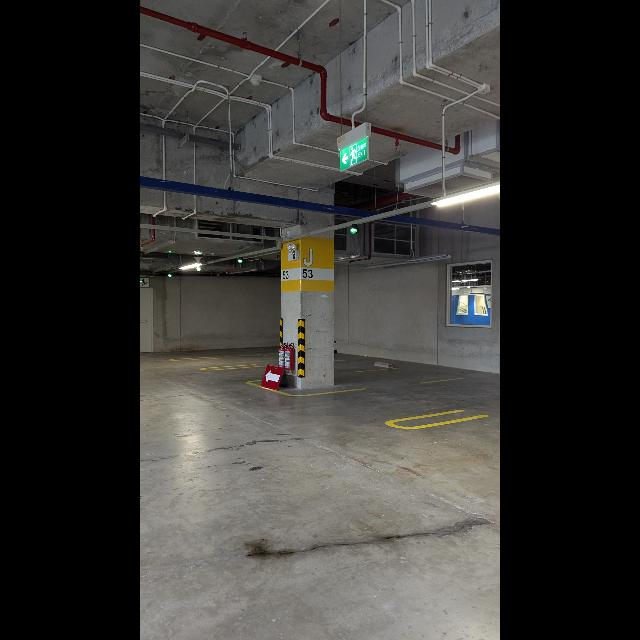exit: (340, 136, 369, 171)
